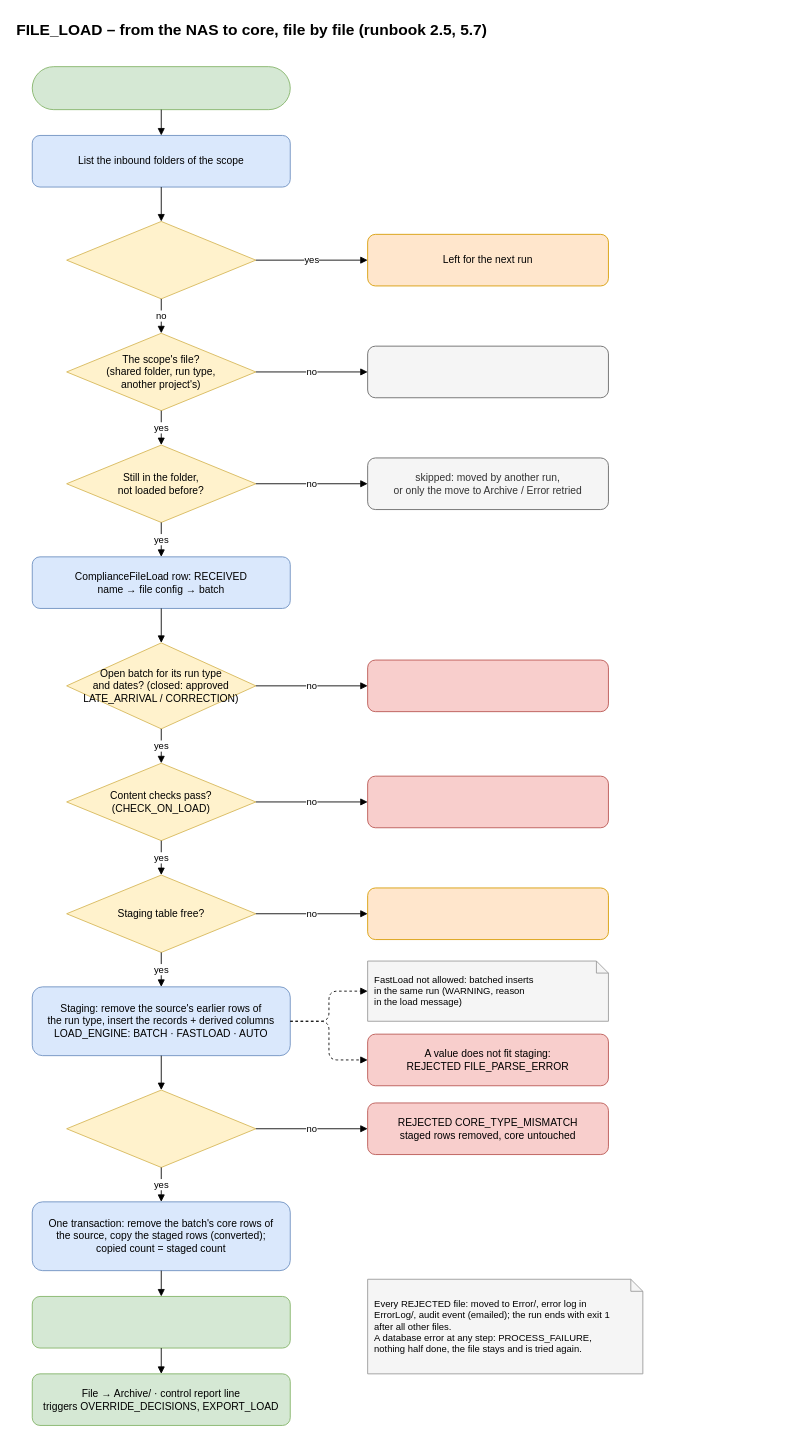
This 803x1441 diagram has some shape labels left out. The centre of each missing label's shape, as x and y in pixels:
FILE_LOAD run (scope, or one file): the point at 160,88
FILE_LOADED · batch SOURCE_DATA_READY (SOURCE_DATA_READY_NO_DATA: no rows): the point at 160,1322
LOAD_INCOMPLETE (STAGING_TABLE_BUSY) loaded by the next run: the point at 487,913
NOT NULL and type checks to core pass?: the point at 161,1128
REJECTED FILE_CONTENT_CHECK_FAILED: the point at 487,801
REJECTED FILE_REJECTED_NO_BATCH / _BATCH_CLOSED: the point at 487,685
skipped: reason in the log and in skipped_files: the point at 487,371
Still arriving? (NAS_MIN_AGE_SECONDS): the point at 161,260
